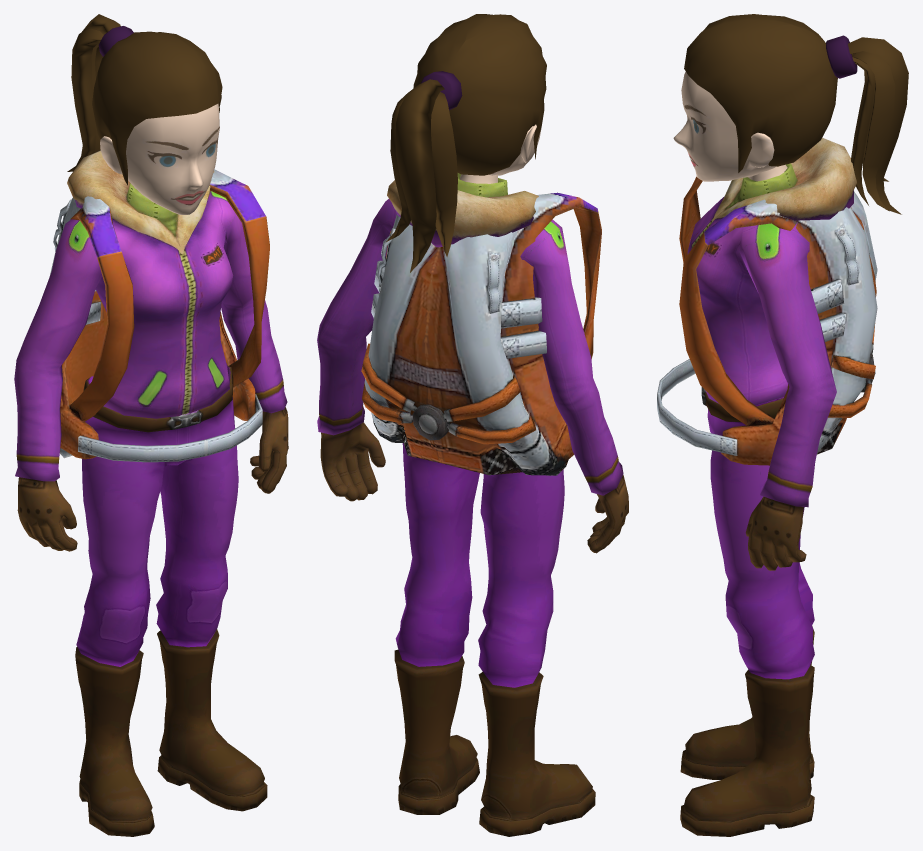
File: Stopped.fbx
3 renders of one model, left to right at view 1: azimuth 30°, elevation 25°; view 2: azimuth 150°, elevation 25°; view 3: azimuth 270°, elevation 25°, orthographic. The views are drawn at different scales.
Visible parts, largest first — view 1: node_id34, node_id36, node_id52, node_id43, node_id38, node_id45; view 2: node_id34, node_id52, node_id36, node_id43, node_id45, node_id38; view 3: node_id36, node_id34, node_id52, node_id43, node_id38, node_id45.
Boxes of the visible parts, x1,y1,x2,y2 form: node_id34: (75,366,267,836); node_id36: (14,150,288,551); node_id52: (50,169,269,462); node_id43: (67,14,222,185); node_id38: (100,103,219,214); node_id45: (98,26,133,56); node_id34: (394,443,595,836); node_id52: (361,192,601,475); node_id36: (317,173,628,553); node_id43: (386,14,546,272); node_id45: (421,71,462,110); node_id38: (489,124,541,175); node_id36: (687,137,856,570); node_id34: (680,387,814,836); node_id52: (657,176,877,465); node_id43: (684,14,908,214); node_id38: (673,71,776,181); node_id45: (826,35,857,78).
Size of the model in its own units: 0.1974 by 0.512 by 0.1503.
7 materials, 5 textured.
